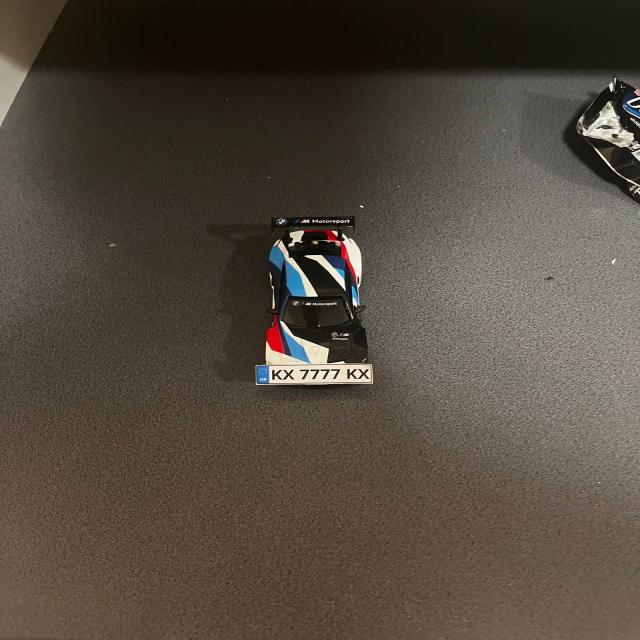KX 7777 KX: (253, 361, 374, 387)
